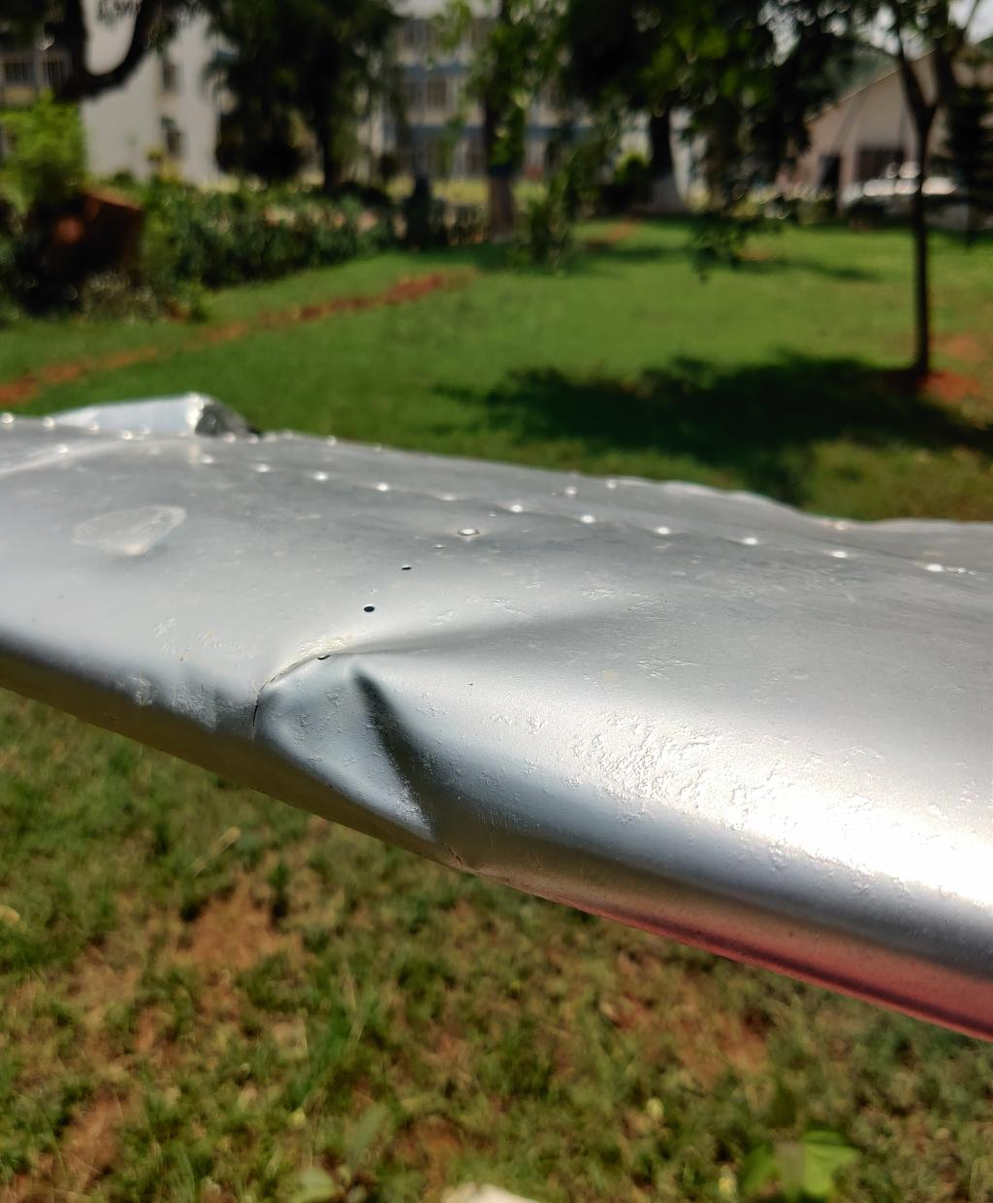crack: (232, 652, 306, 752)
dent: (252, 611, 493, 890)
